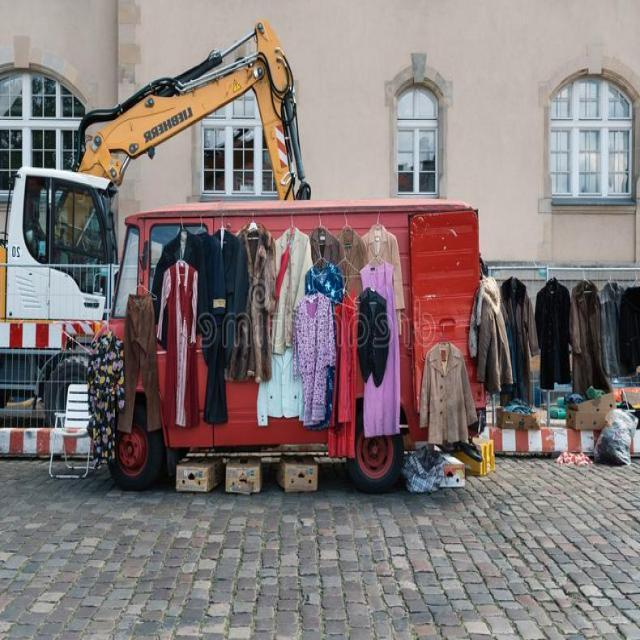clothes: (473, 296, 632, 399)
